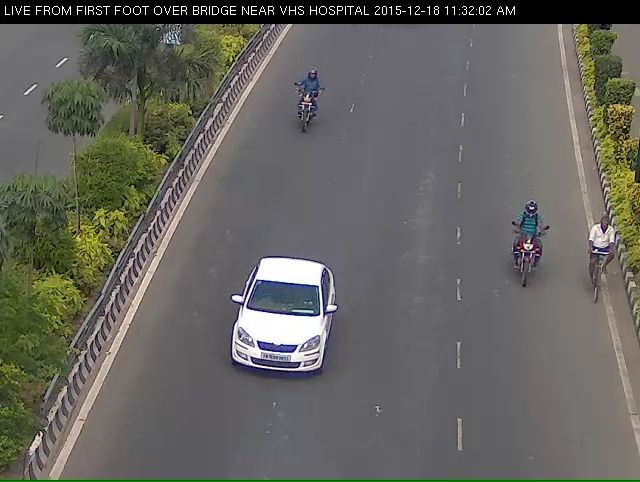Car: (210, 287, 341, 422)
Person: (502, 204, 562, 320), (292, 73, 320, 156)
